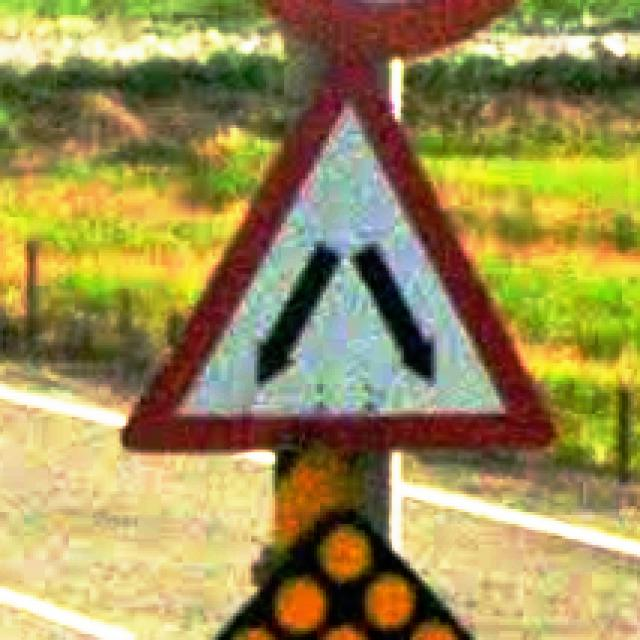diverge: (117, 66, 556, 458)
